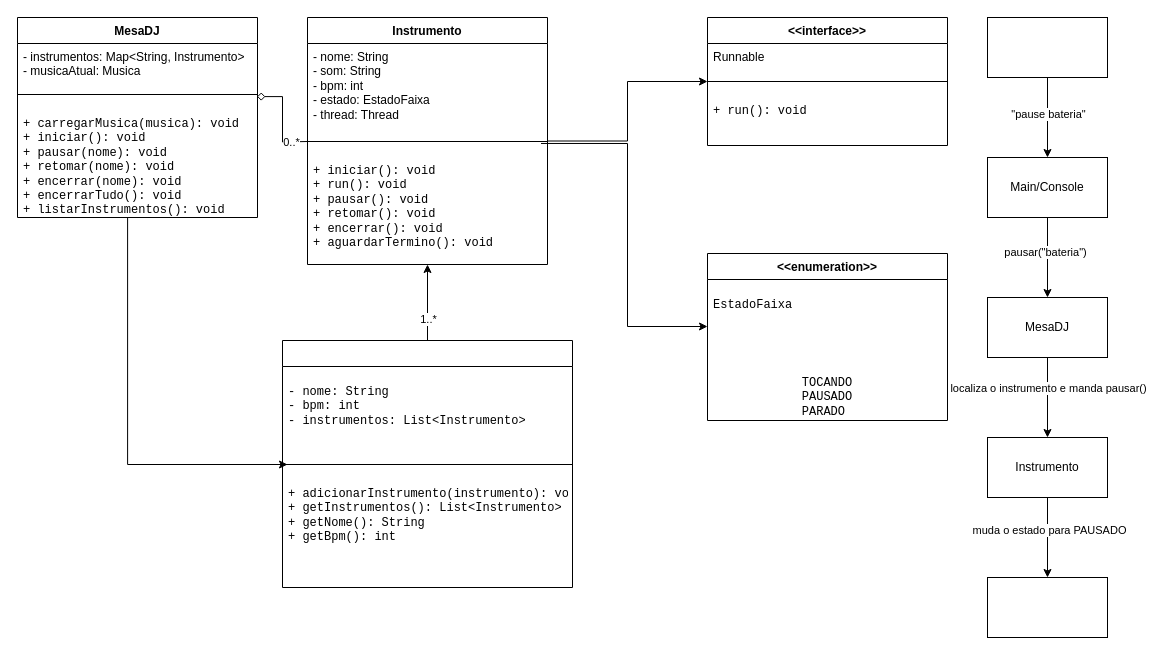
Image size: 1163x655. Some labels were removed from this diagram. Here are the shapes that lost their labels. From the top down, the box of each, then its label:
(986, 16, 1108, 78): Usuario
(282, 340, 572, 588): Musica
(986, 576, 1108, 638): Thread da Bateria entra em Espera
